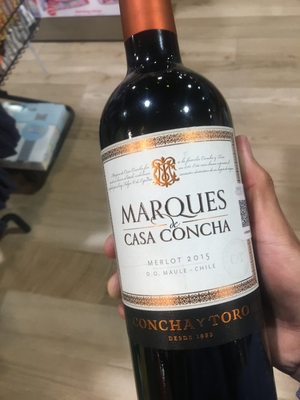marques de casa concha merlot: (73, 6, 269, 388)
